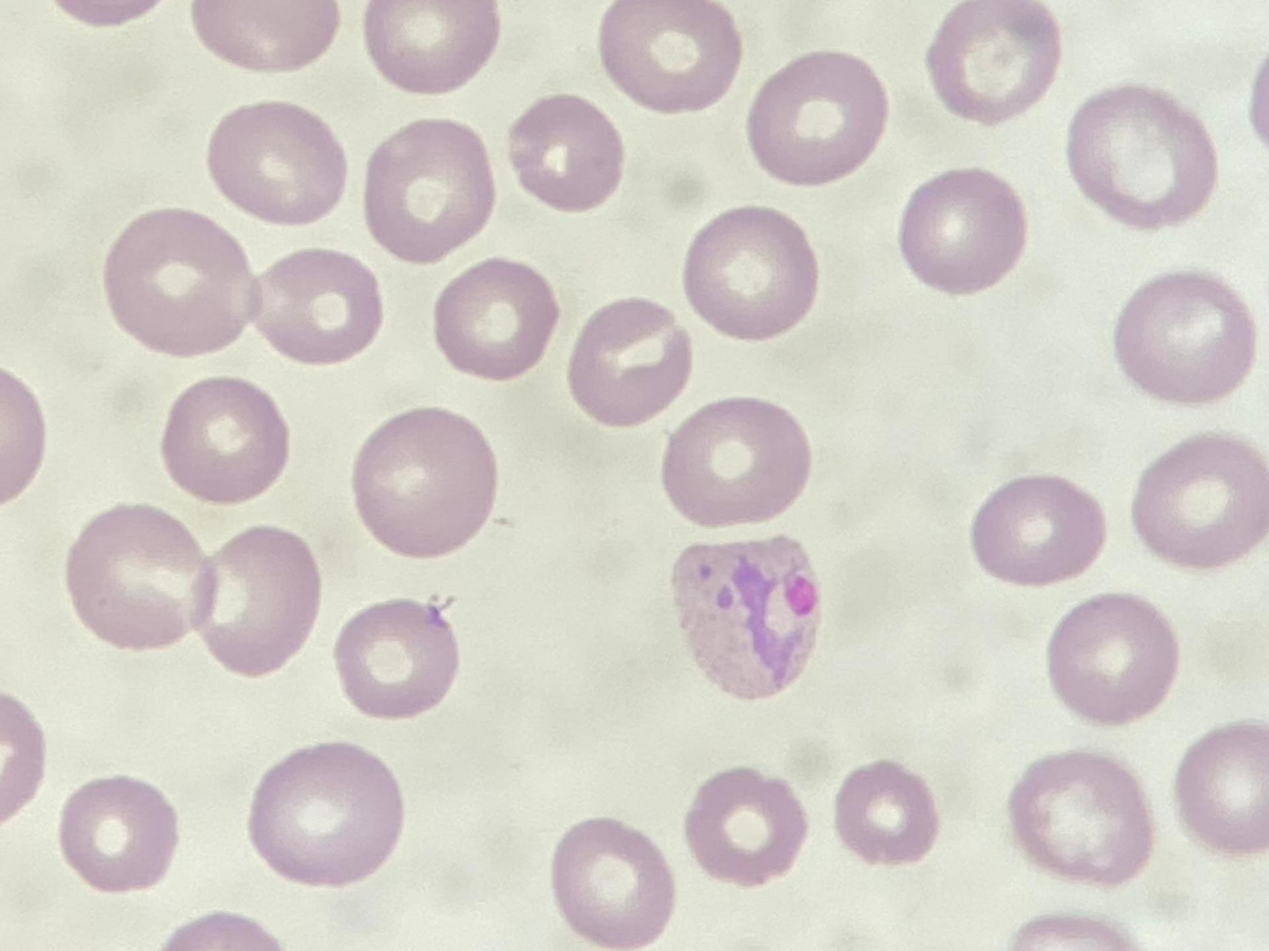Infected: (443, 248, 599, 415)
Uninfected: (865, 63, 1017, 206), (1015, 595, 1163, 740), (772, 393, 915, 541), (50, 725, 202, 864), (1060, 299, 1202, 445), (112, 65, 260, 197), (9, 545, 151, 681), (948, 273, 1076, 423), (381, 767, 521, 900), (457, 424, 603, 551), (0, 380, 136, 515), (775, 689, 905, 830), (450, 612, 584, 743), (921, 726, 1058, 849), (93, 225, 221, 356), (239, 657, 370, 784), (978, 446, 1105, 575), (207, 827, 339, 946), (576, 524, 700, 650), (161, 362, 298, 476), (594, 1, 714, 128), (527, 841, 664, 950), (1088, 54, 1210, 176), (710, 572, 833, 691), (886, 586, 1013, 701), (810, 231, 931, 351), (464, 65, 584, 180), (645, 739, 760, 855), (0, 93, 96, 228), (768, 856, 905, 950), (328, 82, 438, 188), (930, 878, 1072, 948)
